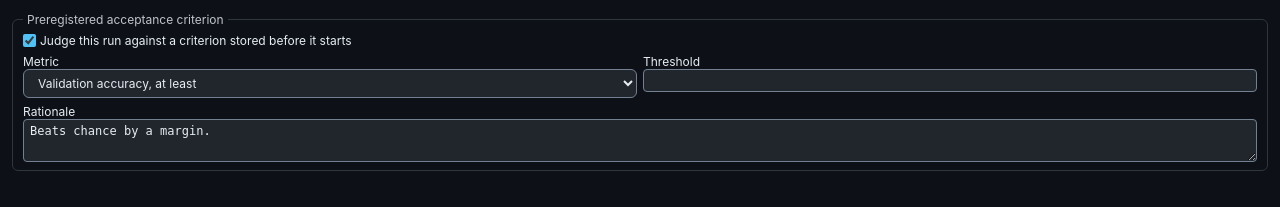
it: TrainingPreregistrationInput › turns an emptied threshold into a value the criterion check refuses, and says why
Clear the number field named "Criterion threshold". click: (950, 80)
box: [643,69,1257,92]
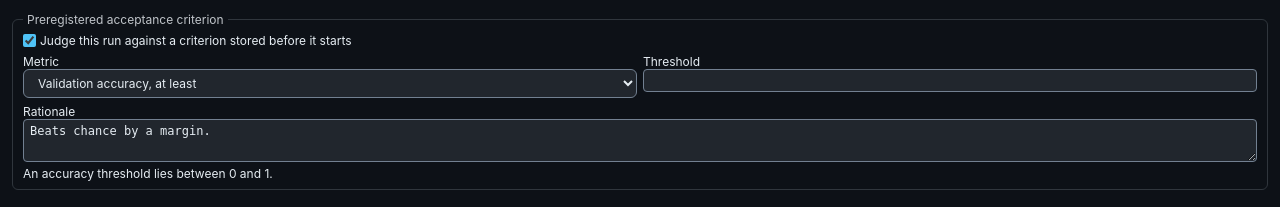
Now the message "An accuracy threshold lies between 0 and 1." is shown, box [23,166,273,181]
